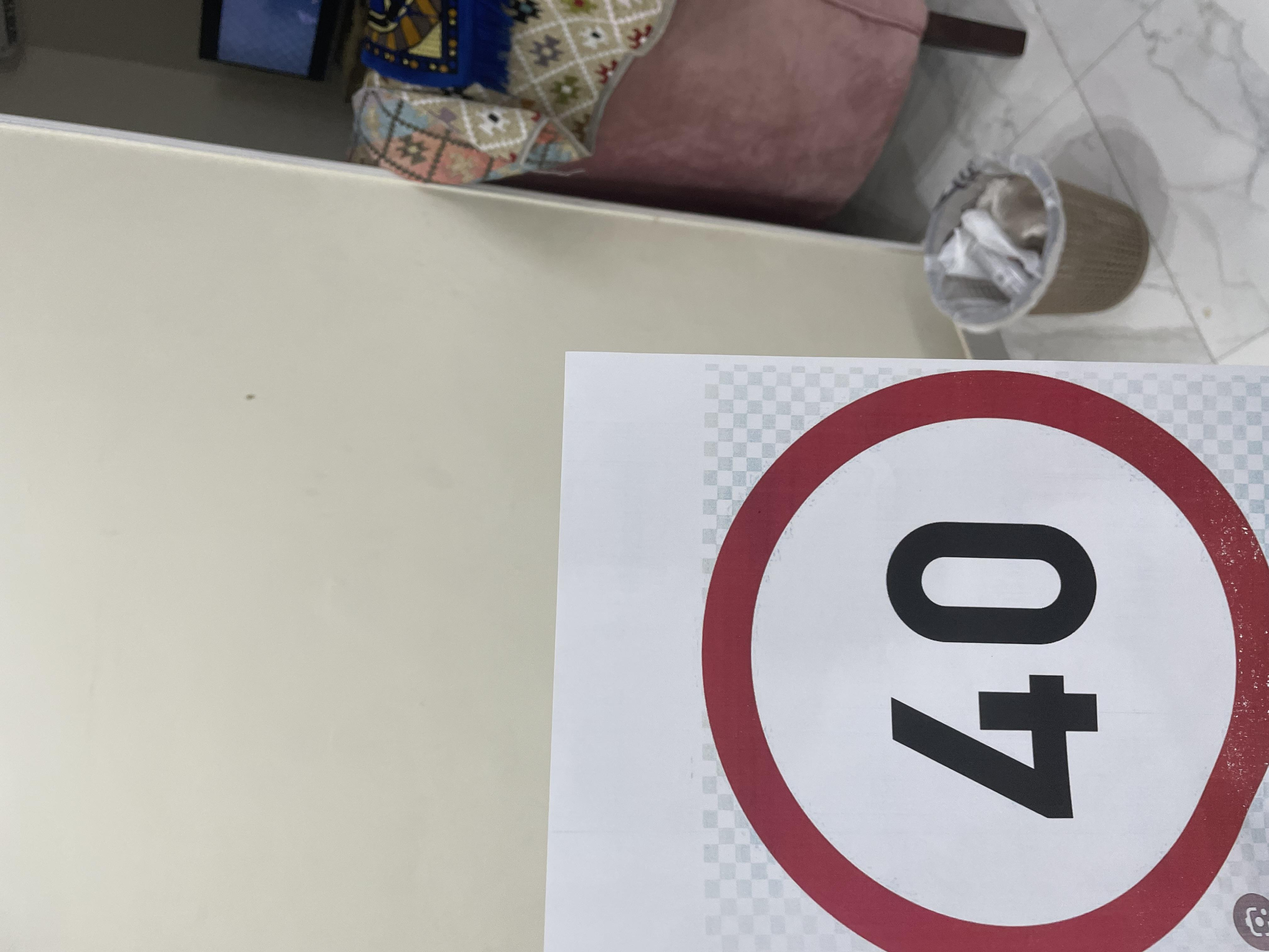40-Speed: (0, 525, 811, 952)
